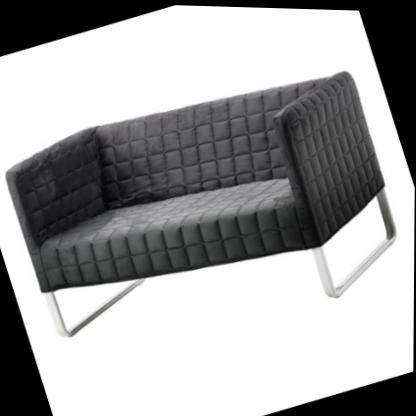Sofa: (0, 35, 416, 388)
